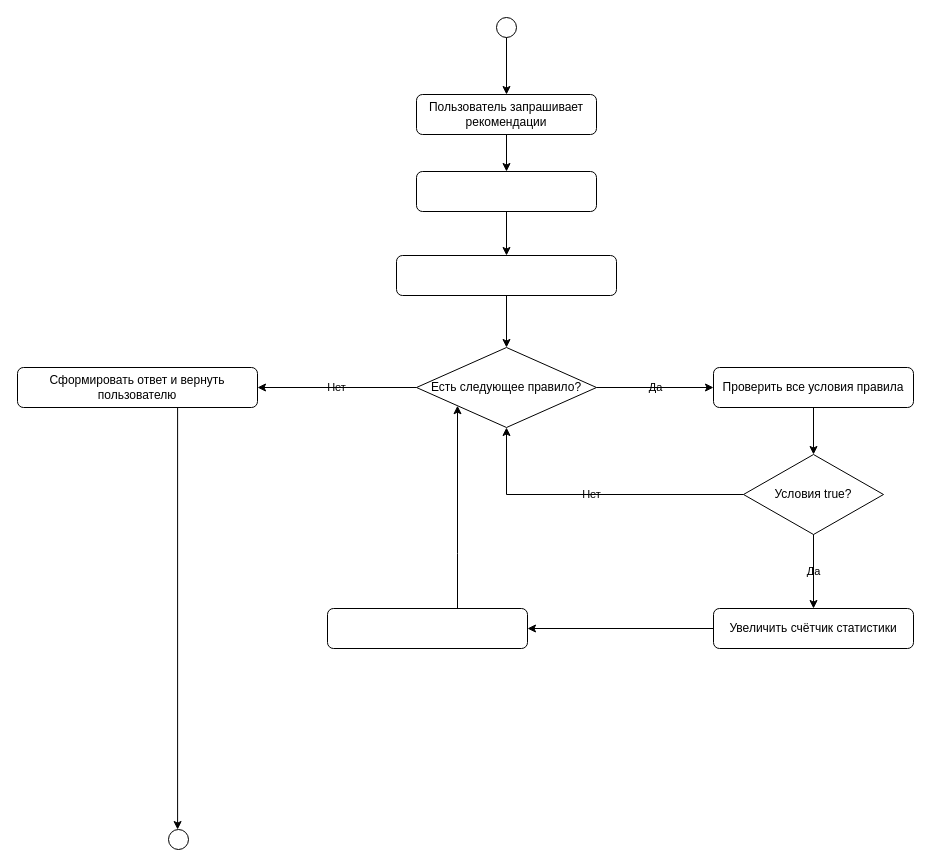
Image size: 931x867. Some labels were removed from this diagram. Here are the shapes that lost their labels. From the top down, the box of each, then its label:
(416, 170, 596, 212): Проверка статических правил
(396, 254, 616, 296): Загрузка всех динамических правил из БД
(326, 608, 528, 648): Добавить продукт в рекомендации
